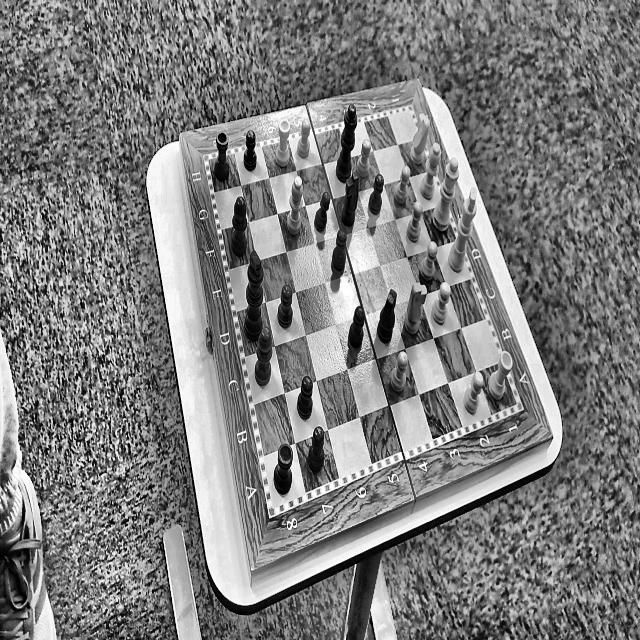chessboard: (209, 111, 517, 506)
